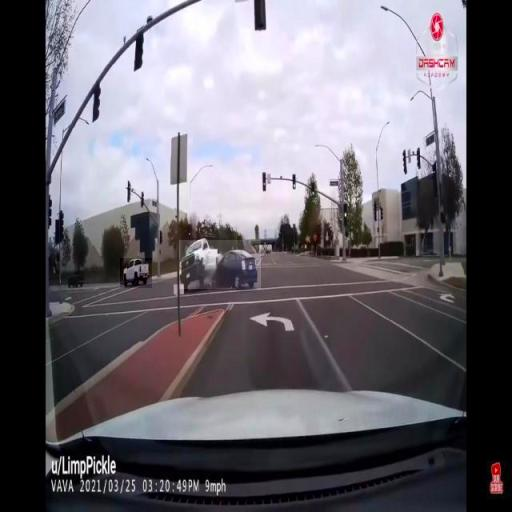小汽车: (120, 258, 152, 288)
小汽车撞小汽车: (179, 240, 261, 289)
